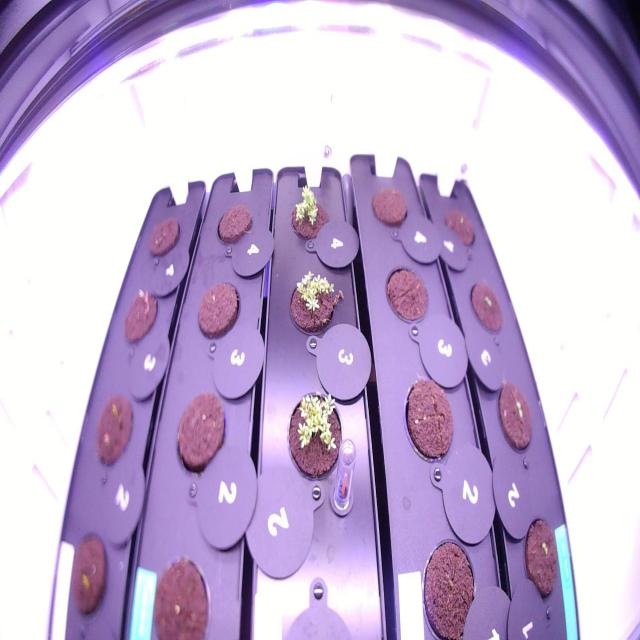germination: (279, 375, 349, 490), (278, 258, 350, 352), (516, 505, 565, 612), (492, 369, 544, 458), (279, 177, 339, 253), (465, 269, 515, 341), (118, 281, 166, 353)
pod: (416, 528, 485, 640), (143, 550, 218, 640), (167, 382, 231, 484), (398, 368, 460, 472), (64, 521, 115, 625), (378, 252, 434, 339), (191, 272, 245, 351), (90, 390, 138, 474), (364, 177, 412, 241), (142, 204, 185, 271), (212, 198, 258, 254), (438, 200, 482, 254)
